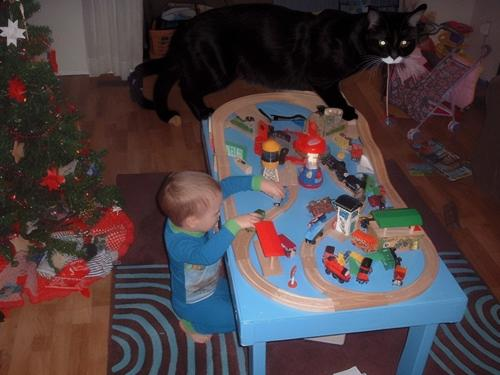cat: (142, 2, 426, 120)
person: (159, 166, 290, 343)
person/foot: (177, 320, 212, 343)
person/hand: (260, 180, 285, 201), (234, 213, 263, 228)
person/head: (159, 171, 224, 232)
